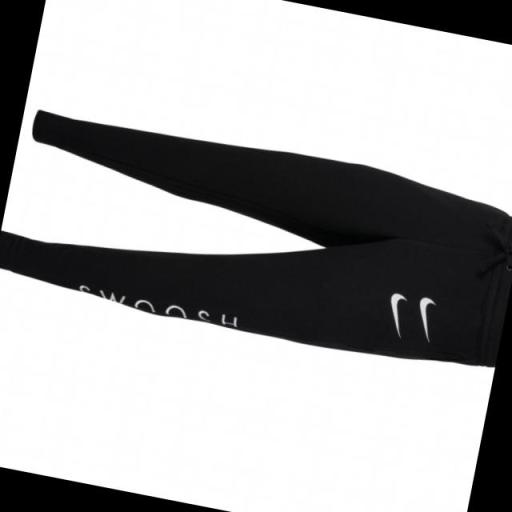Nike: (380, 286, 412, 340)
